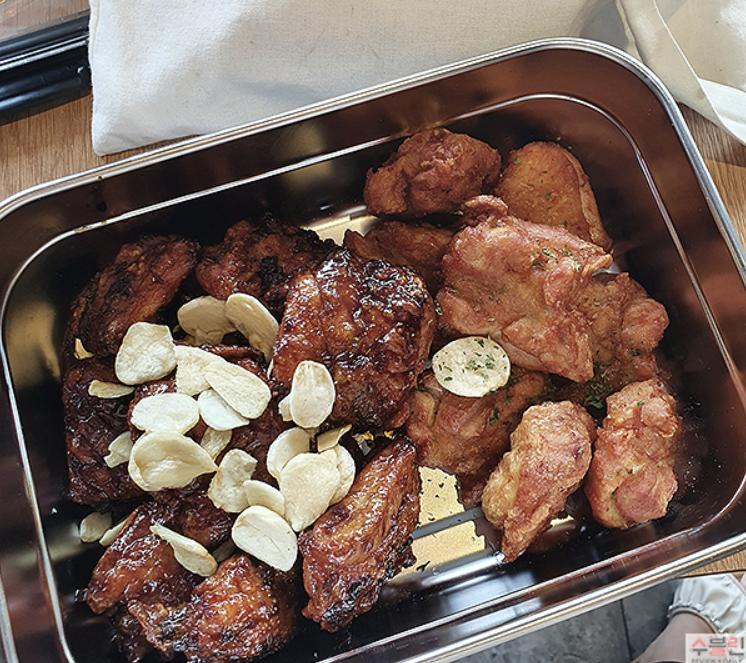Lunch Box: (0, 41, 745, 662)
